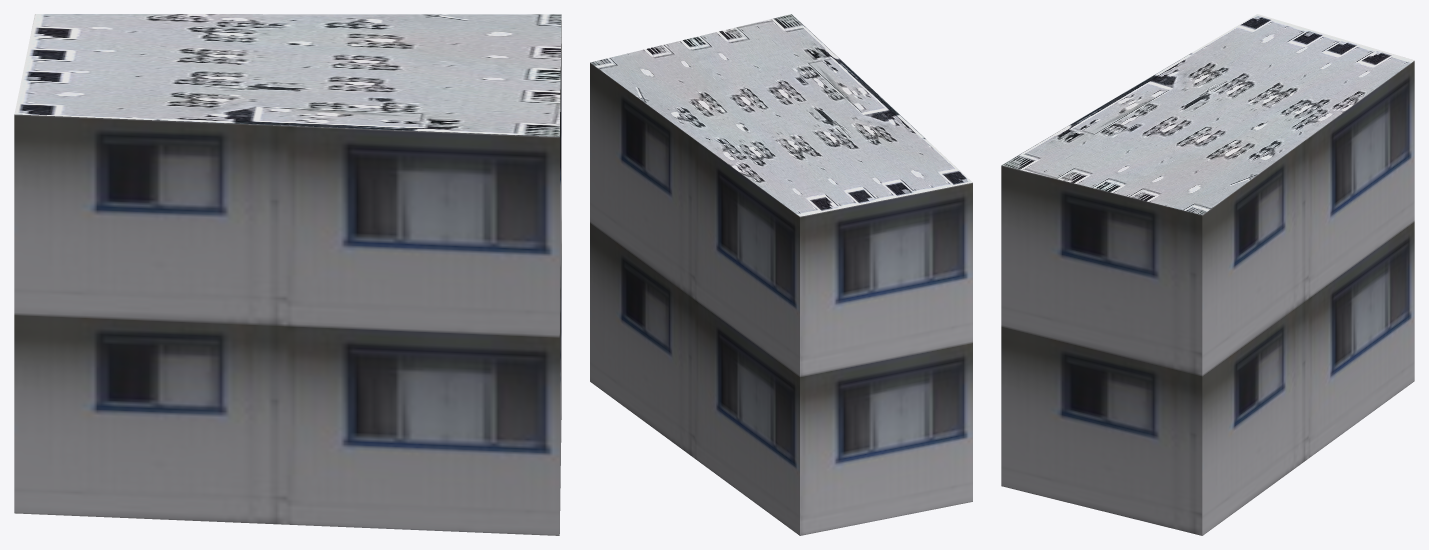
Rendered from ResTex__3454.fbx.
3 views of the same model, side by side, from view 1: azimuth 30°, elevation 25°; view 2: azimuth 150°, elevation 25°; view 3: azimuth 270°, elevation 25° (orthographic). The views are drawn at different scales.
Visible parts, largest first — view 1: CityEngineMaterial_9_m, CityEngineMaterial_4_m; view 2: CityEngineMaterial_9_m, CityEngineMaterial_4_m; view 3: CityEngineMaterial_9_m, CityEngineMaterial_4_m.
Part boxes in pixels (bbox=[...]): CityEngineMaterial_9_m: bbox=[14, 21, 561, 535]; CityEngineMaterial_4_m: bbox=[14, 14, 561, 136]; CityEngineMaterial_9_m: bbox=[590, 63, 972, 535]; CityEngineMaterial_4_m: bbox=[590, 14, 972, 216]; CityEngineMaterial_9_m: bbox=[1001, 61, 1414, 535]; CityEngineMaterial_4_m: bbox=[1001, 14, 1414, 214].
Size of the model in its own units: 8.07 by 6 by 7.01.
2 materials, 2 textured.
